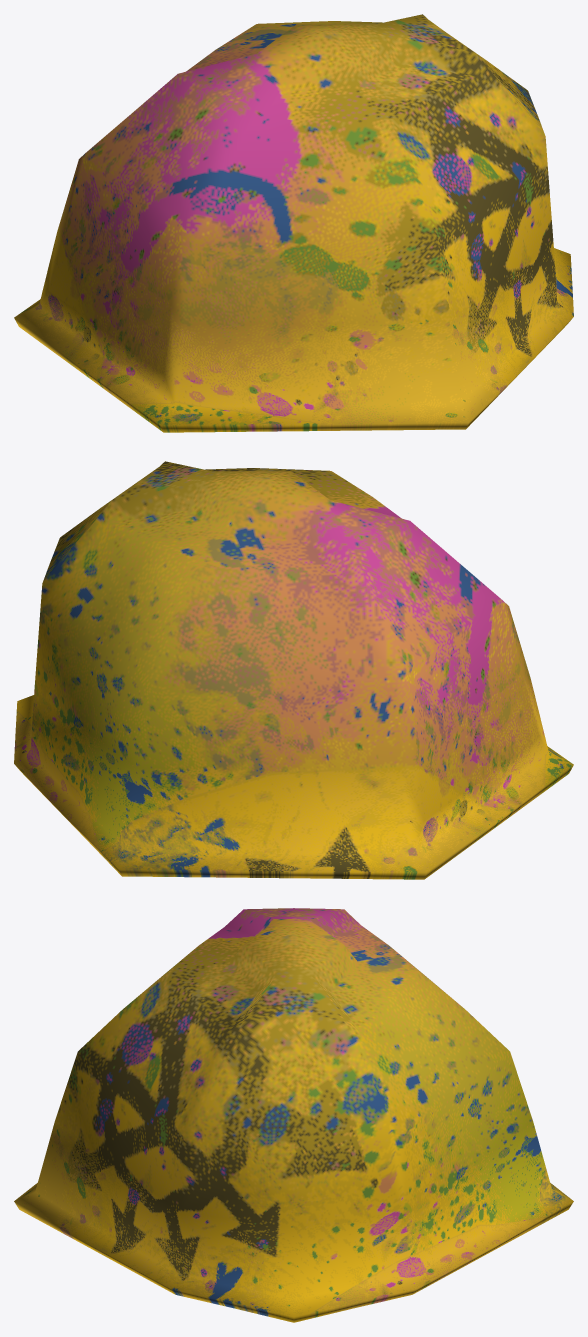
Rendered from Chaos.glb.
3 views of the same model, one above another, from view 1: azimuth 30°, elevation 25°; view 2: azimuth 150°, elevation 25°; view 3: azimuth 270°, elevation 25° (orthographic). The views are drawn at different scales.
Visible parts, largest first — view 1: Chaos; view 2: Chaos; view 3: Chaos.
Boxes of the visible parts, bbox=[...] form: Chaos: bbox=[14, 14, 573, 432]; Chaos: bbox=[14, 461, 573, 879]; Chaos: bbox=[14, 908, 573, 1322].
Bounding box in the file's own units: 2.48 × 1.42 × 2.62.
1 material, 1 textured.
